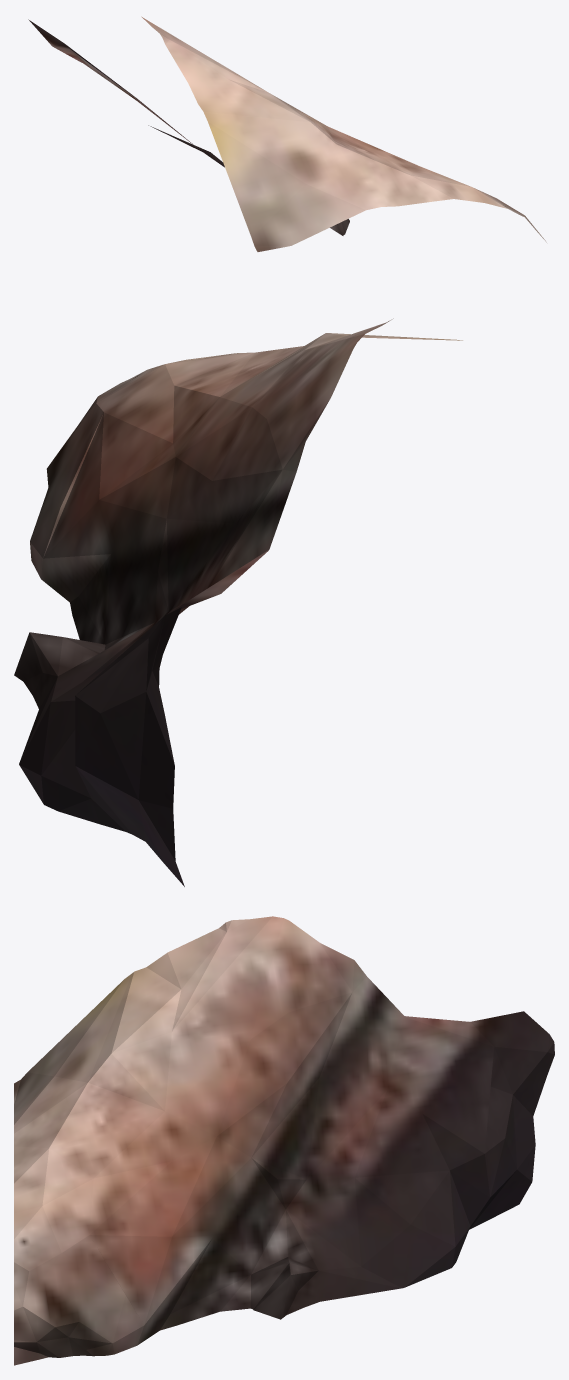
3 views of the same model, one above another, from view 1: azimuth 30°, elevation 25°; view 2: azimuth 150°, elevation 25°; view 3: azimuth 270°, elevation 25° (orthographic). The views are drawn at different scales.
Bounding box in the file's own units: 0.2179 × 0.1817 × 0.3092.
Materials: 1 (1 with a texture image).
